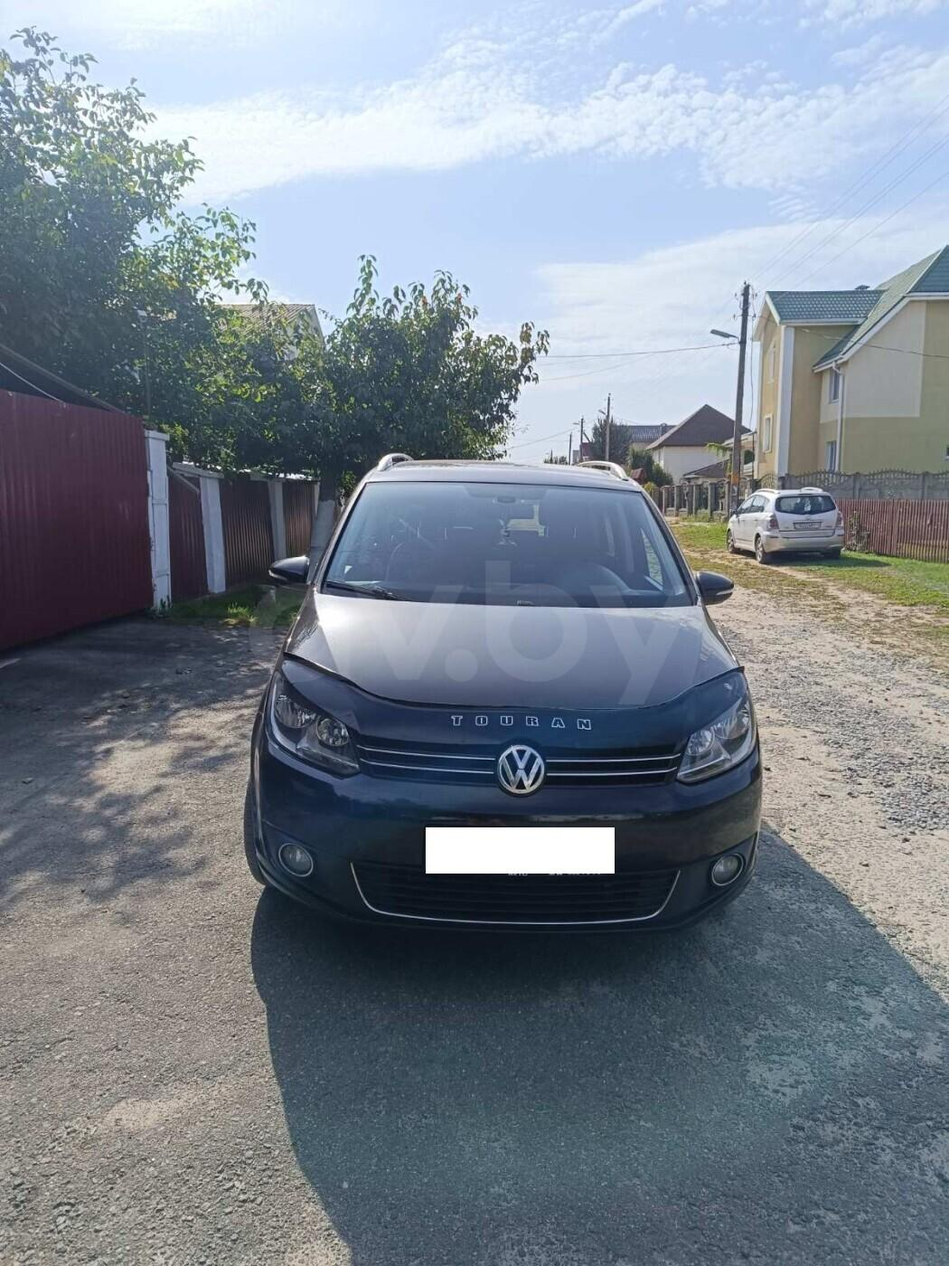Touran_2010-2015: (237, 449, 772, 960)
